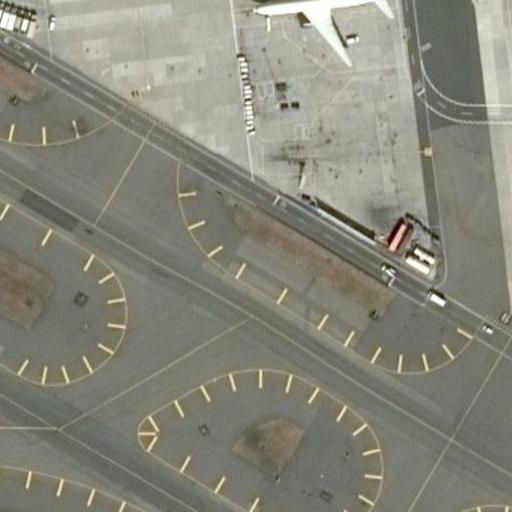Aircraft: (249, 0, 395, 62)
